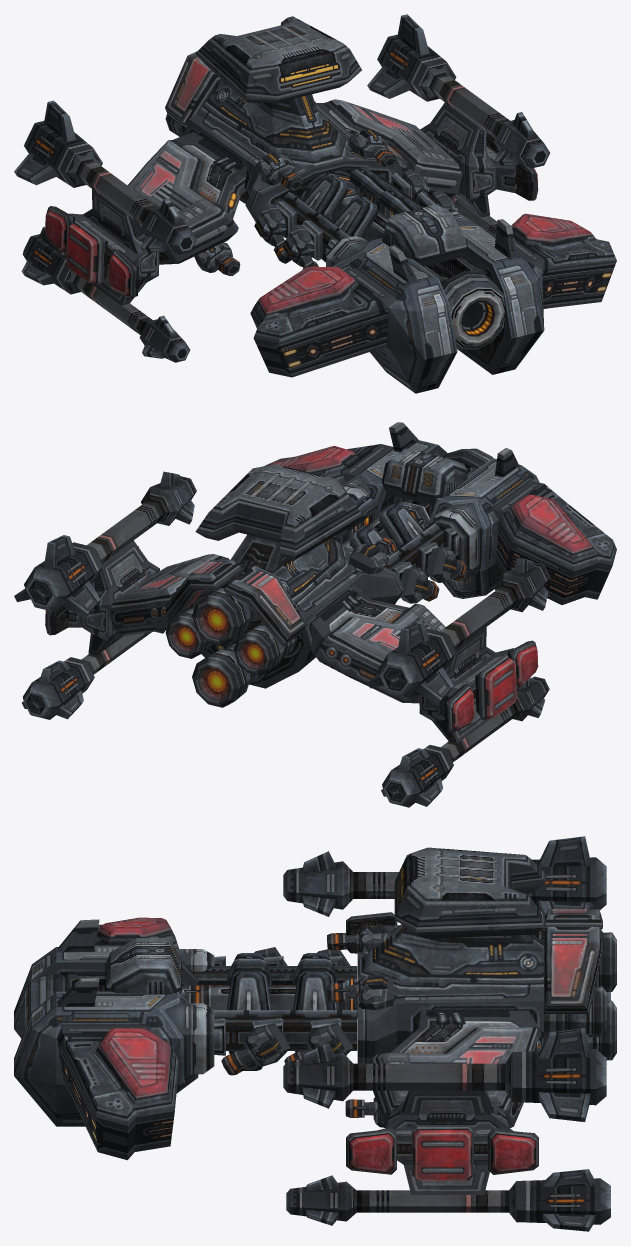
Rendered from Battlecruiser.obj.
3 views of the same model, one above another, from view 1: azimuth 30°, elevation 25°; view 2: azimuth 150°, elevation 25°; view 3: azimuth 270°, elevation 25° (orthographic). The views are drawn at different scales.
Bounding box in the file's own units: 3.63 × 1.88 × 4.
